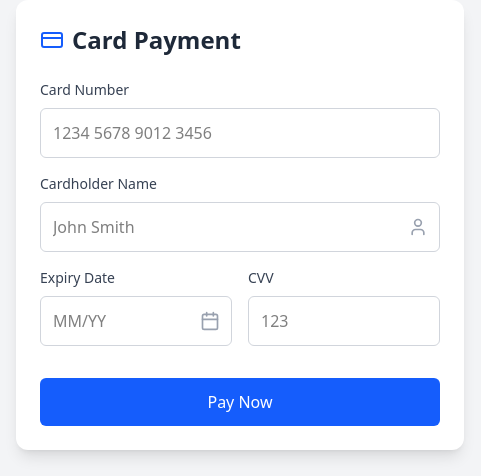
Test: CreditCardValidator › limits CVV input to 4 digits max
The image size is (481, 476).
Type "12345" into the field labelled "CVV".
click(344, 321); type("12345")  # box 248,296 -> 440,346
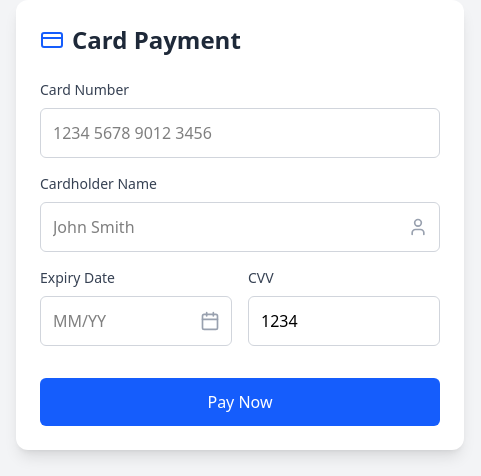
Now the field labelled "CVV" holds "1234", box 248,296 -> 440,346
